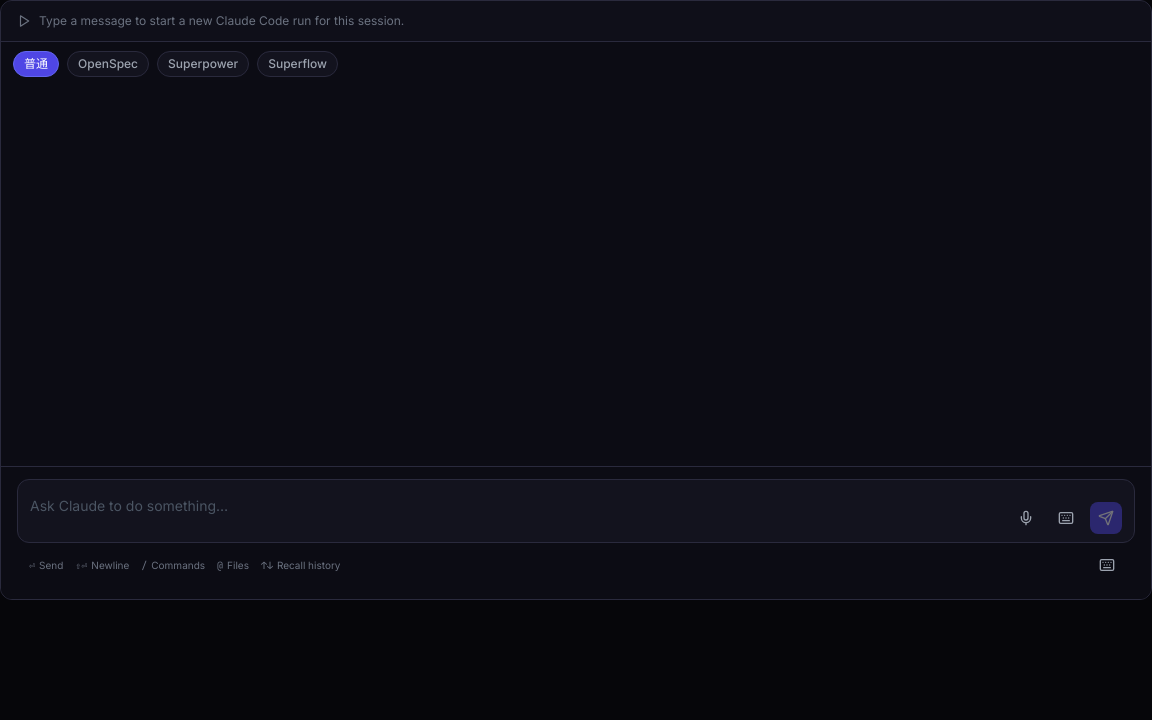
Test case: ChatTab › enables send button when text is entered
The image size is (1152, 720).
Type "hello" into the text box at (516, 508), box [30,488,1002,528]
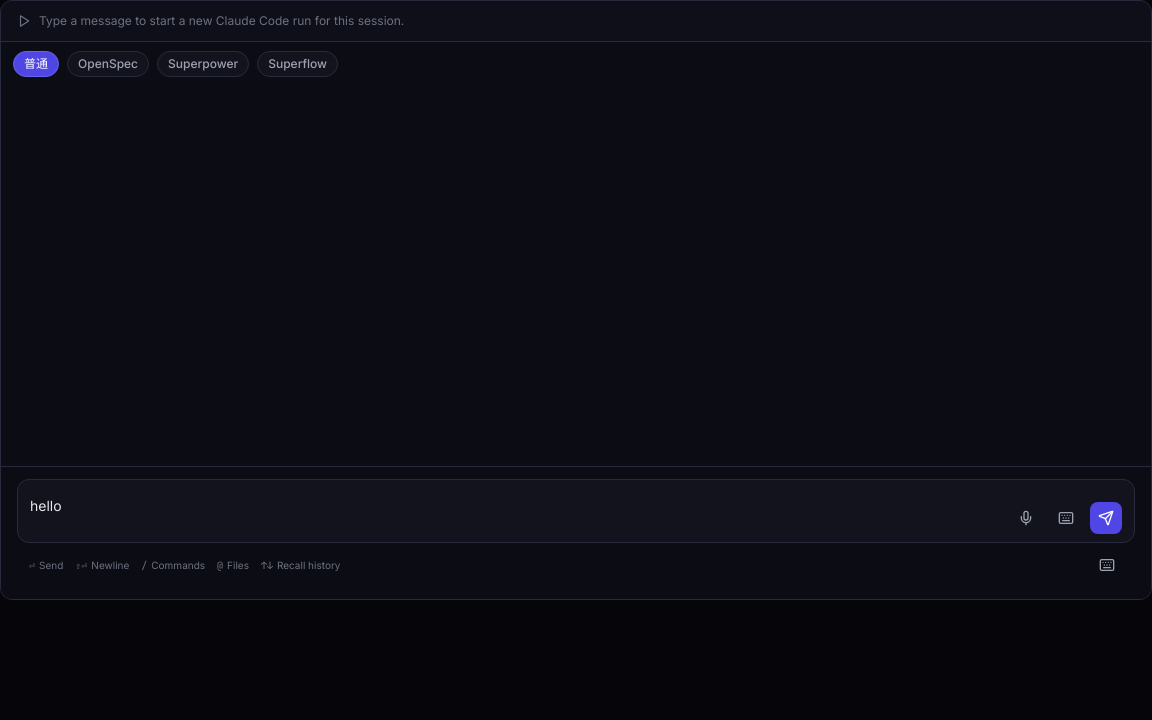
Check: the button named "send" is enabled, box [1090,502,1122,534]
